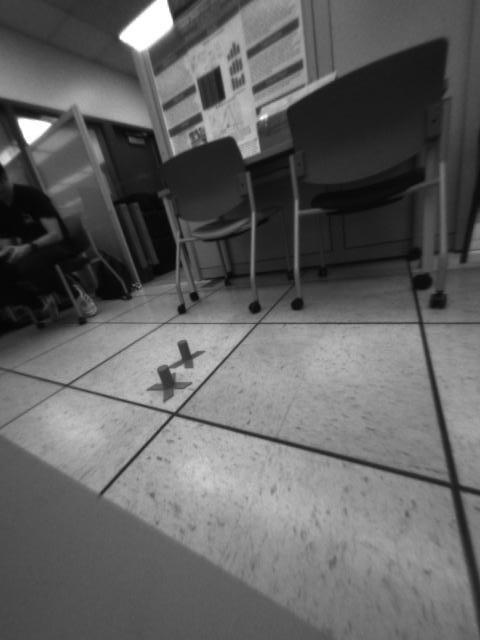X: (145, 364, 193, 402), (170, 339, 204, 371)
